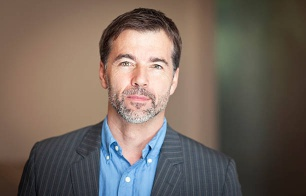male: (94, 15, 181, 127)
